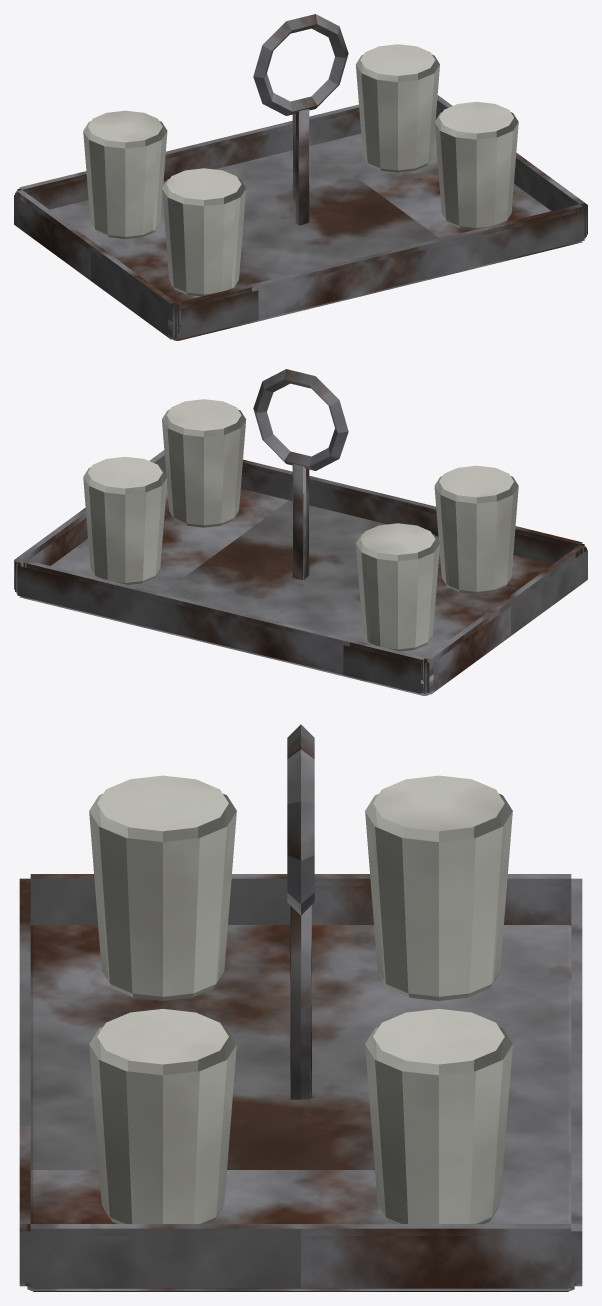
File: W08_chai_glasses_tray.glb
3 views of the same model, one above another, from view 1: azimuth 30°, elevation 25°; view 2: azimuth 150°, elevation 25°; view 3: azimuth 270°, elevation 25° (orthographic). The views are drawn at different scales.
Visible parts, largest first — view 1: W08_chai_glasses_tray; view 2: W08_chai_glasses_tray; view 3: W08_chai_glasses_tray.
Boxes of the visible parts, box(x1,y1,x2,y2) form: W08_chai_glasses_tray: box(14, 14, 587, 340); W08_chai_glasses_tray: box(14, 369, 587, 695); W08_chai_glasses_tray: box(19, 724, 582, 1291).
Bounding box in the file's own units: 0.3 × 0.1493 × 0.2026.
3 materials, 3 textured.
